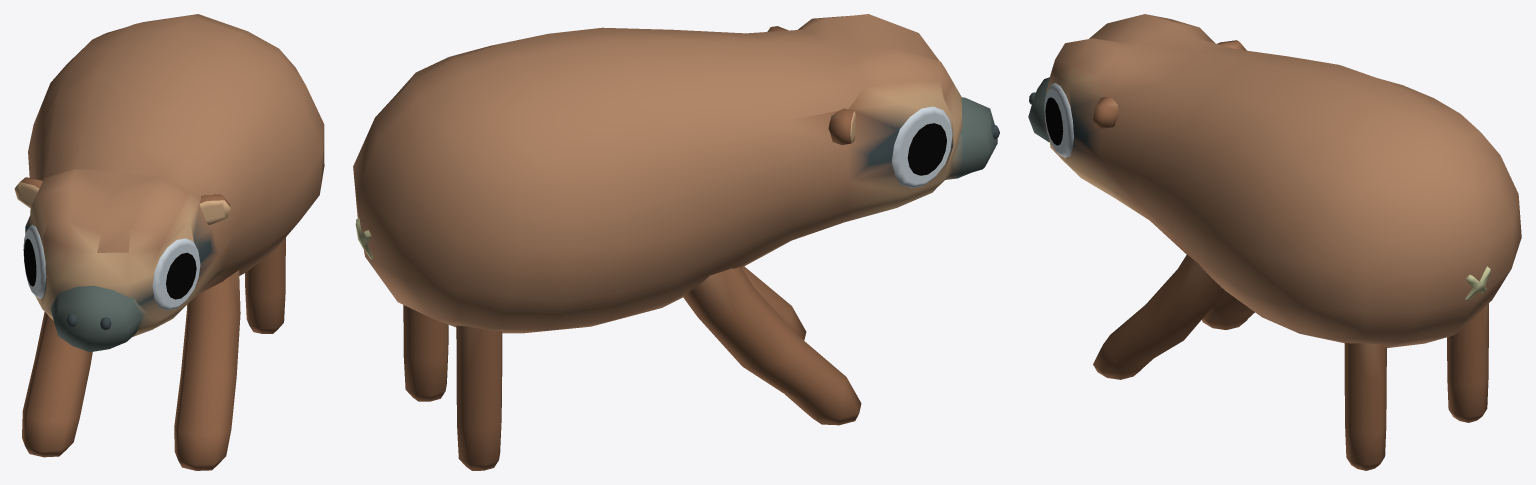
The model's file is Sloth.glb.
3 views of the same model, side by side, from view 1: azimuth 30°, elevation 25°; view 2: azimuth 150°, elevation 25°; view 3: azimuth 270°, elevation 25° (orthographic). The views are drawn at different scales.
Parts seen in each view (by area): view 1: 153; view 2: 153; view 3: 153.
Part boxes in pixels (box(x1,y1,x2,y2)): 153: box(14, 14, 324, 470); 153: box(353, 14, 999, 470); 153: box(1028, 14, 1521, 470).
Bounding box in the file's own units: 0.8131 × 0.6275 × 0.8609.
